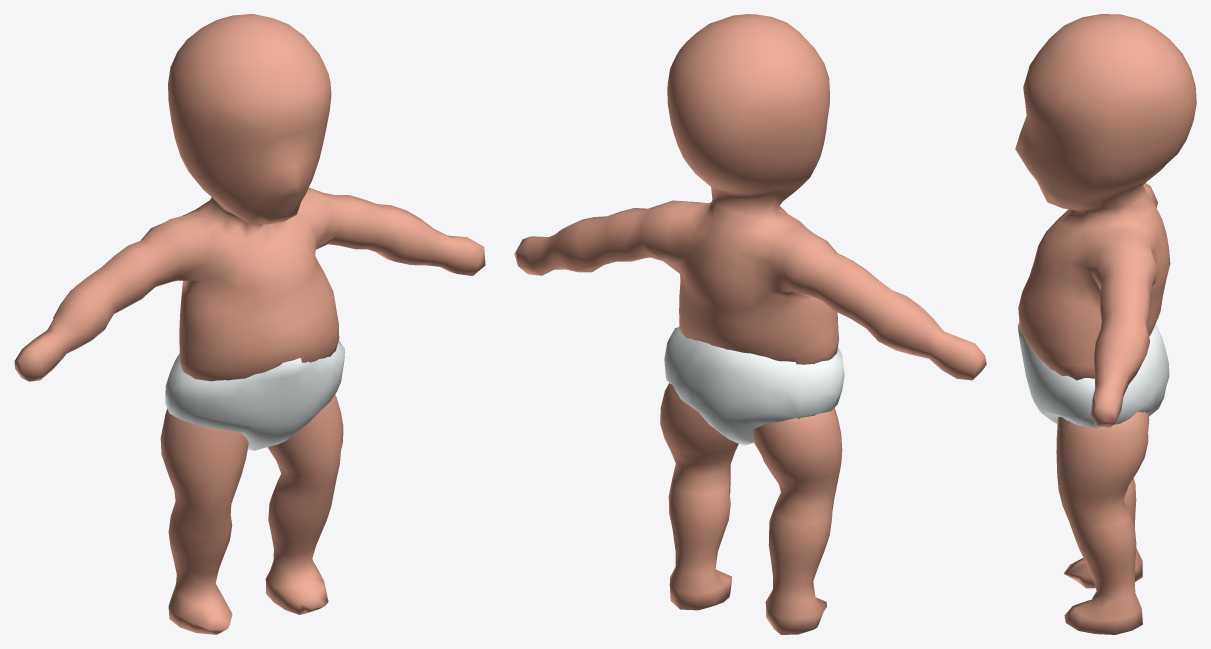
The model's file is Baby.fbx.
3 views of the same model, side by side, from view 1: azimuth 30°, elevation 25°; view 2: azimuth 150°, elevation 25°; view 3: azimuth 270°, elevation 25° (orthographic).
Visible parts, largest first — view 1: Baby_01; view 2: Baby_01; view 3: Baby_01.
Boxes of the visible parts, x1=… form: Baby_01: x1=14, y1=14, x2=485, y2=634; Baby_01: x1=514, y1=14, x2=986, y2=634; Baby_01: x1=1015, y1=14, x2=1196, y2=634.
Size of the model in its own units: 49.74 by 59.95 by 16.92.
